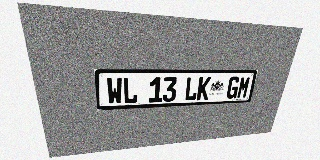1: (149, 77, 163, 103)
3: (162, 77, 177, 102)
G: (226, 76, 241, 99)
K: (196, 77, 211, 100)
L: (123, 77, 138, 104), (184, 77, 199, 101)
M: (236, 76, 251, 98)
W: (106, 77, 123, 105)
